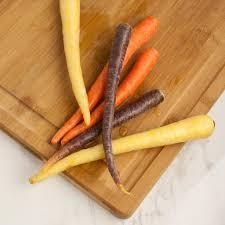Organic: (4, 1, 225, 223)
